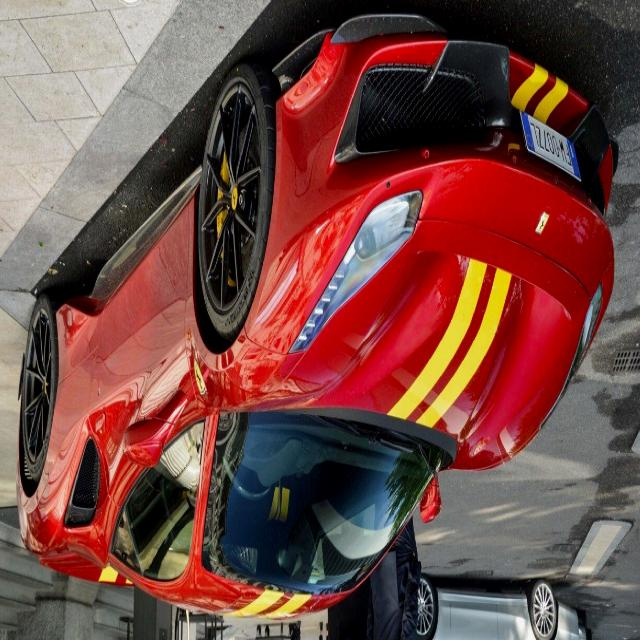red: (17, 8, 621, 629)
